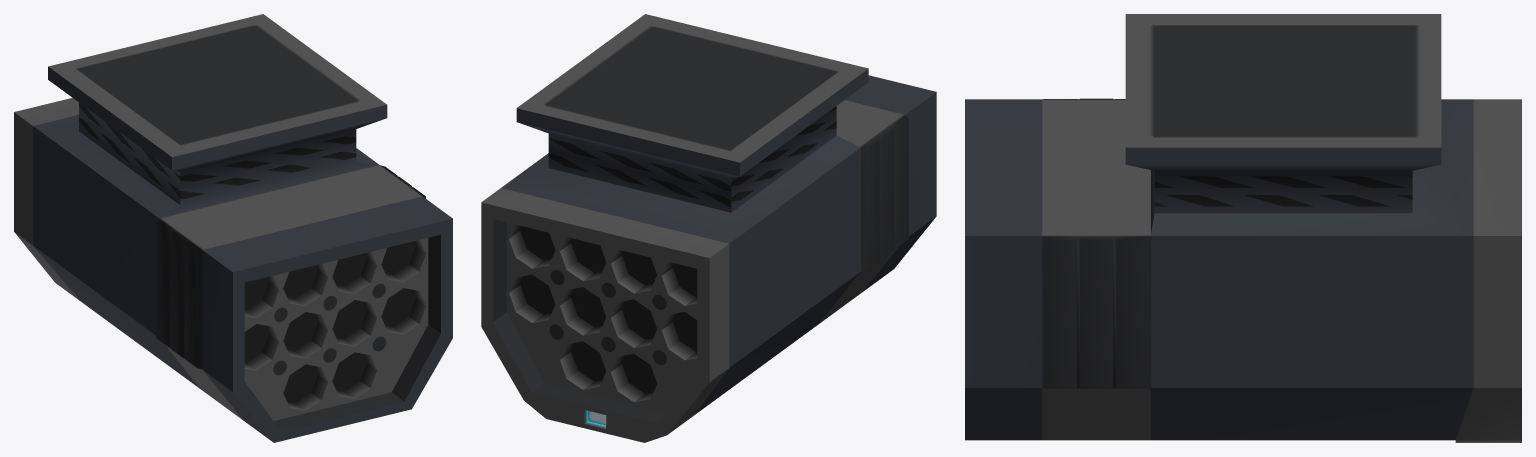
File: Weapon_Missile_Launcher.fbx
3 views of the same model, side by side, from view 1: azimuth 30°, elevation 25°; view 2: azimuth 150°, elevation 25°; view 3: azimuth 270°, elevation 25° (orthographic). The views are drawn at different scales.
Parts seen in each view (by area): view 1: Weapon_Missile_Launcher:Weapon_Missile_Launcher1; view 2: Weapon_Missile_Launcher:Weapon_Missile_Launcher1; view 3: Weapon_Missile_Launcher:Weapon_Missile_Launcher1.
Boxes of the visible parts, x1,y1,x2,y2 form: Weapon_Missile_Launcher:Weapon_Missile_Launcher1: (14,14,452,442); Weapon_Missile_Launcher:Weapon_Missile_Launcher1: (481,14,936,442); Weapon_Missile_Launcher:Weapon_Missile_Launcher1: (965,14,1521,442).
Size of the model in its own units: 153 by 167 by 254.
